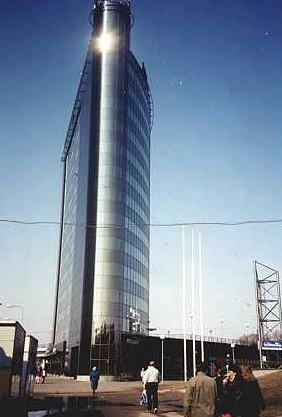building: (53, 0, 154, 381)
